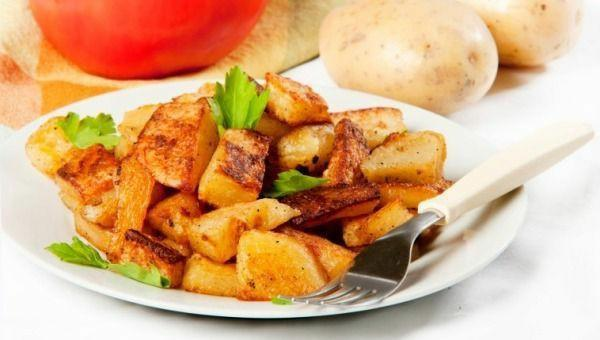AlooMasala: (26, 73, 454, 301)
